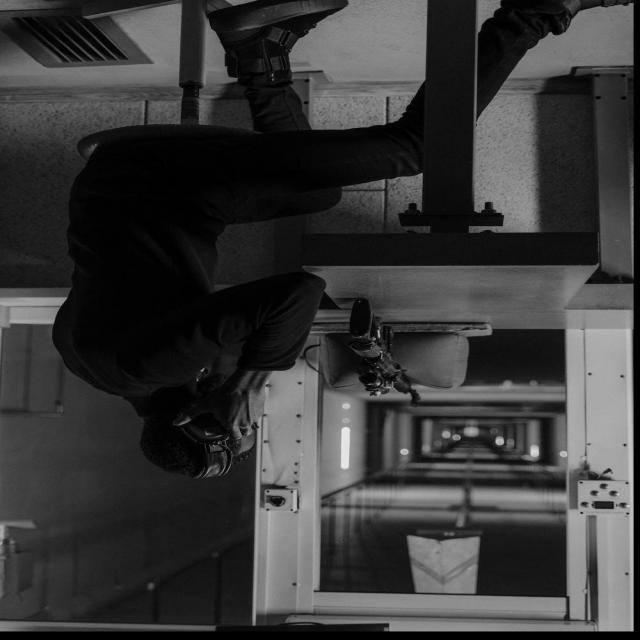weapon: (348, 297, 423, 407)
